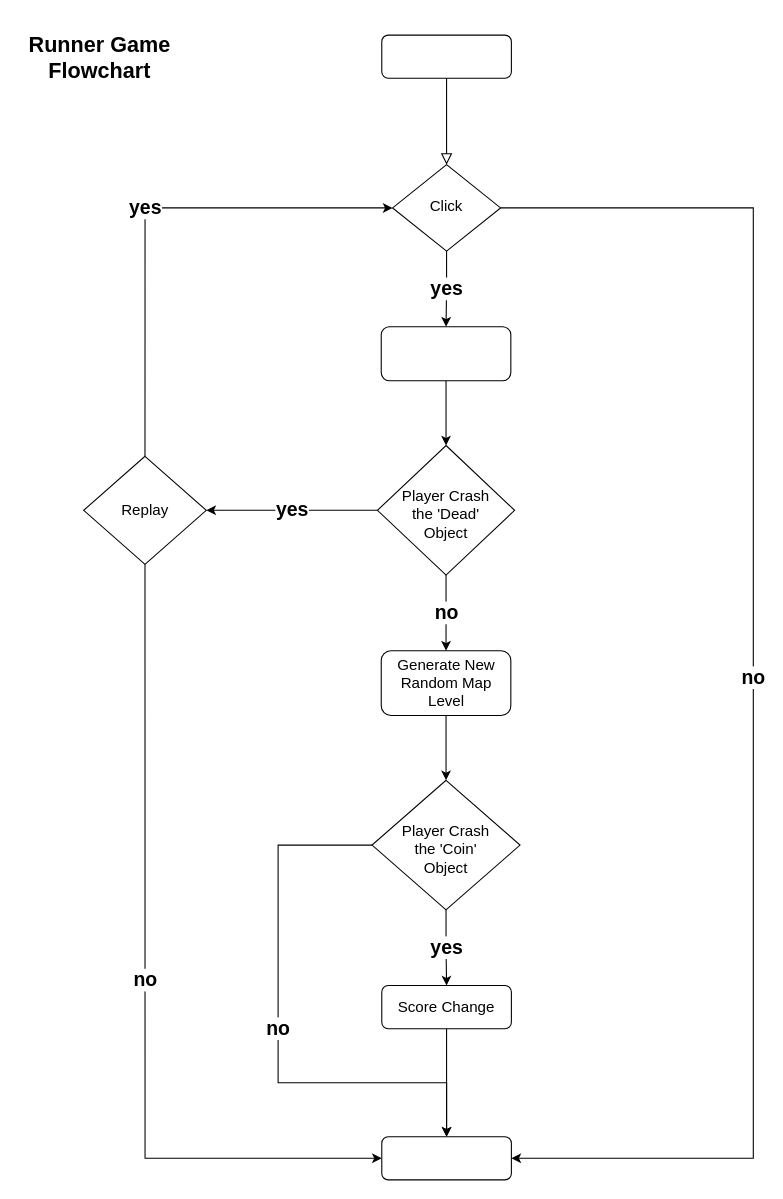
Image size: 783x1199. Some labels were removed from this diagram. The box of each missing label's shape, as (x1, y1, x2, y2) in pixels:
End: (381, 1136, 511, 1180)
Start: (381, 34, 511, 78)
Start Moving Player: (380, 326, 511, 381)
